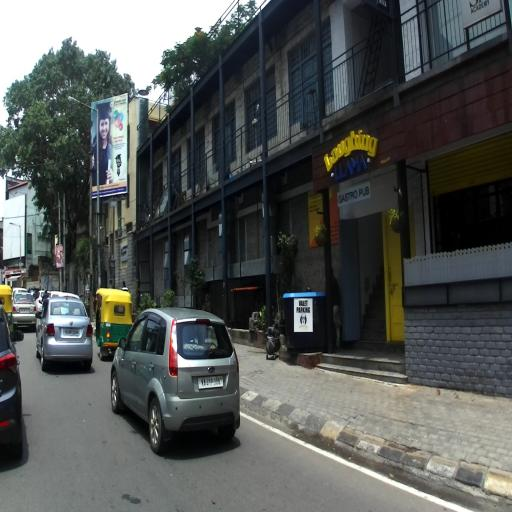street_light_0: (67, 94, 100, 115), (9, 222, 20, 228)
